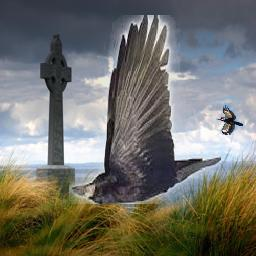Crow: (69, 16, 221, 205)
Woodpecker: (217, 105, 244, 136)
